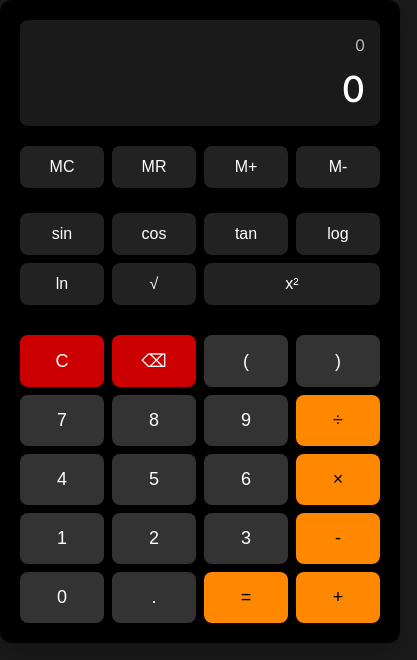
Test: Calculator Component Unit Tests › Error Handling › handles division by zero
The image size is (417, 660).
Click the button "1" at (62, 538), box [20, 513, 104, 564]
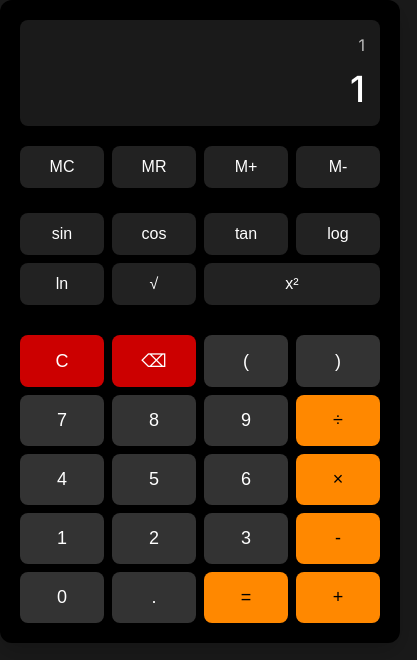
Click the button "÷" at (338, 420), box [296, 395, 380, 446]
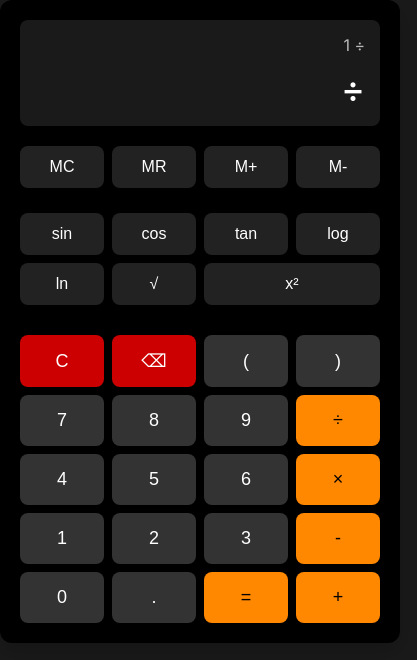
Click the button "0" at (62, 598), box [20, 572, 104, 623]
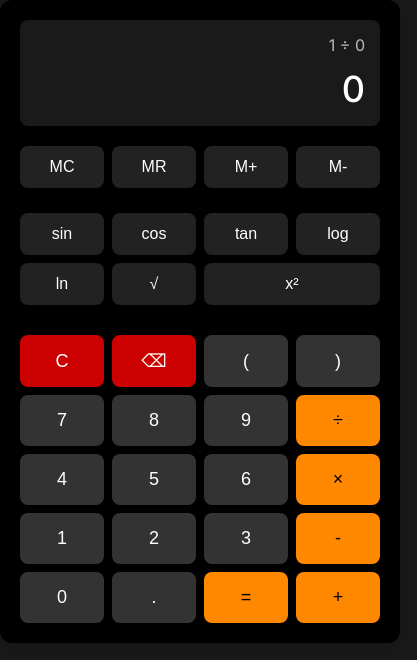
Click the button "=" at (246, 598), box [204, 572, 288, 623]
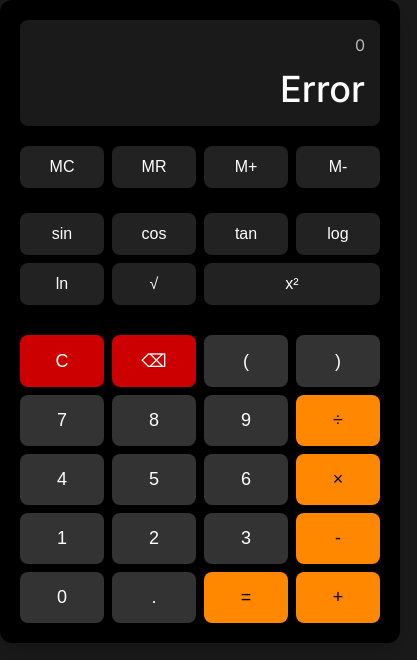
Expected: the text "Error" is shown, [280, 67, 365, 111]
